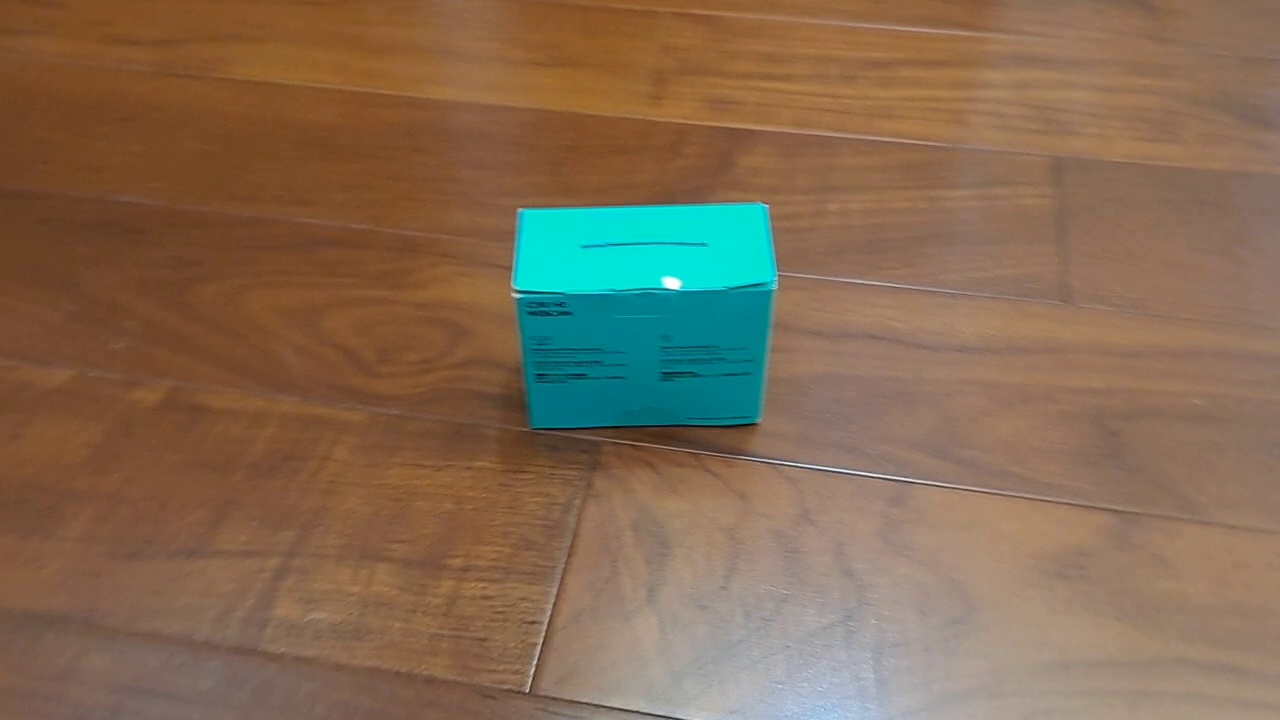webcam: (507, 199, 781, 433)
